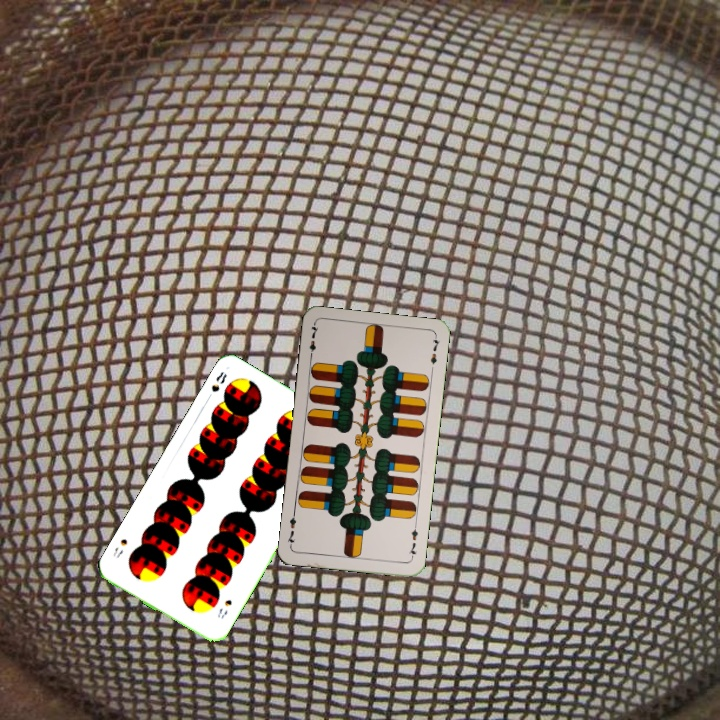E7: (405, 521, 421, 561), (306, 320, 321, 361)
S8: (202, 367, 229, 403), (213, 595, 235, 621)
